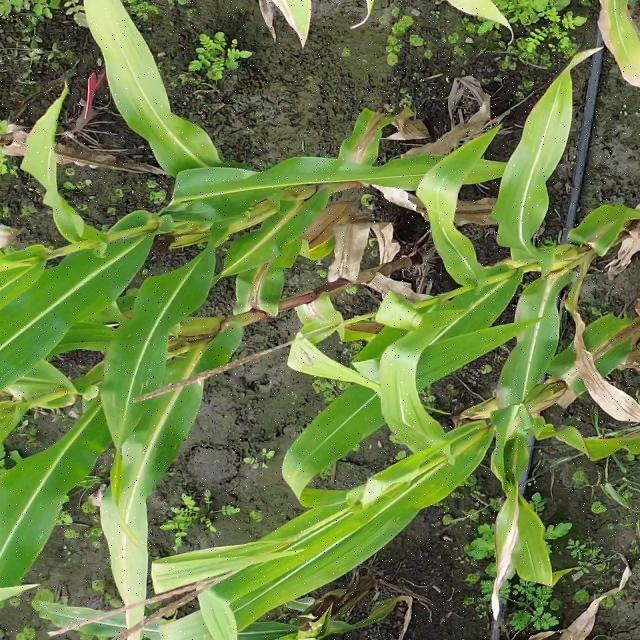gray-leaf-spot: (113, 362, 157, 431)
northern-leaf-blight: (560, 317, 636, 388), (337, 114, 393, 166), (502, 468, 530, 570), (235, 266, 284, 313), (574, 217, 626, 257)
southern-leaf-blight: (521, 119, 557, 176)
